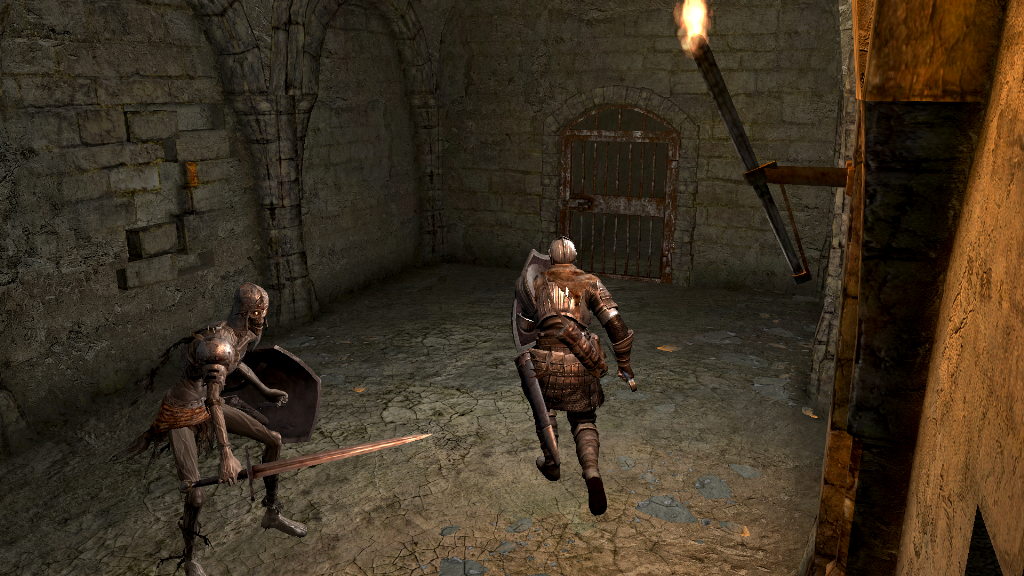player: (509, 235, 638, 517)
undeadSoldier: (138, 280, 308, 576)
